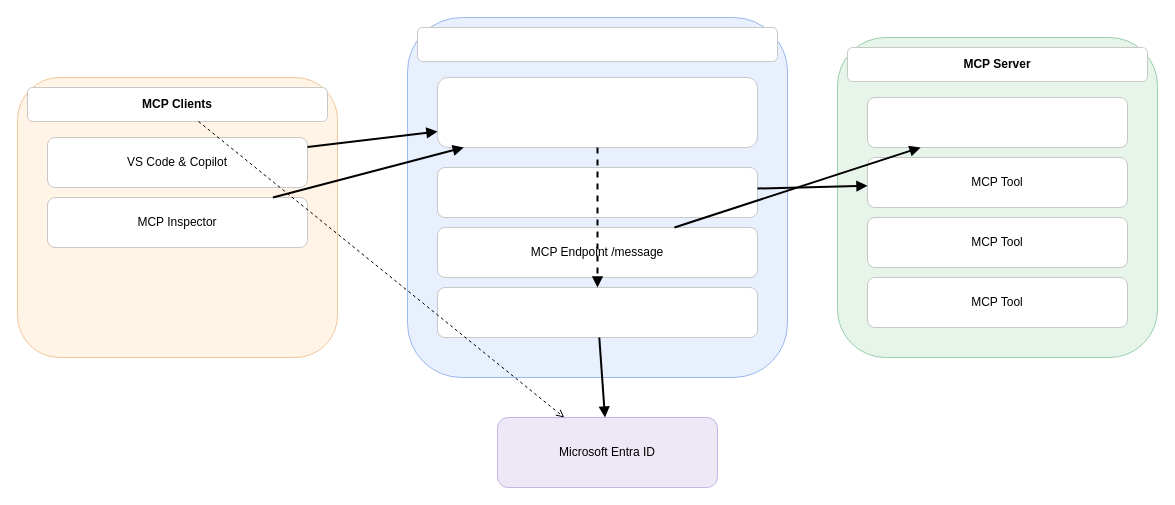
This 1175x505 diagram has some shape labels left out. The shapes that lost their labels are listed below. From the top down, each one's box as (x1, y1, x2, y2) in pixels, then its label:
(416, 26, 778, 62): AI Gateway
(436, 76, 758, 148): Azure API Management (Remote MCP Proxy)
(866, 96, 1128, 148): Azure Function
(436, 166, 758, 218): MCP Endpoint /sse
(436, 286, 758, 338): OAuth
